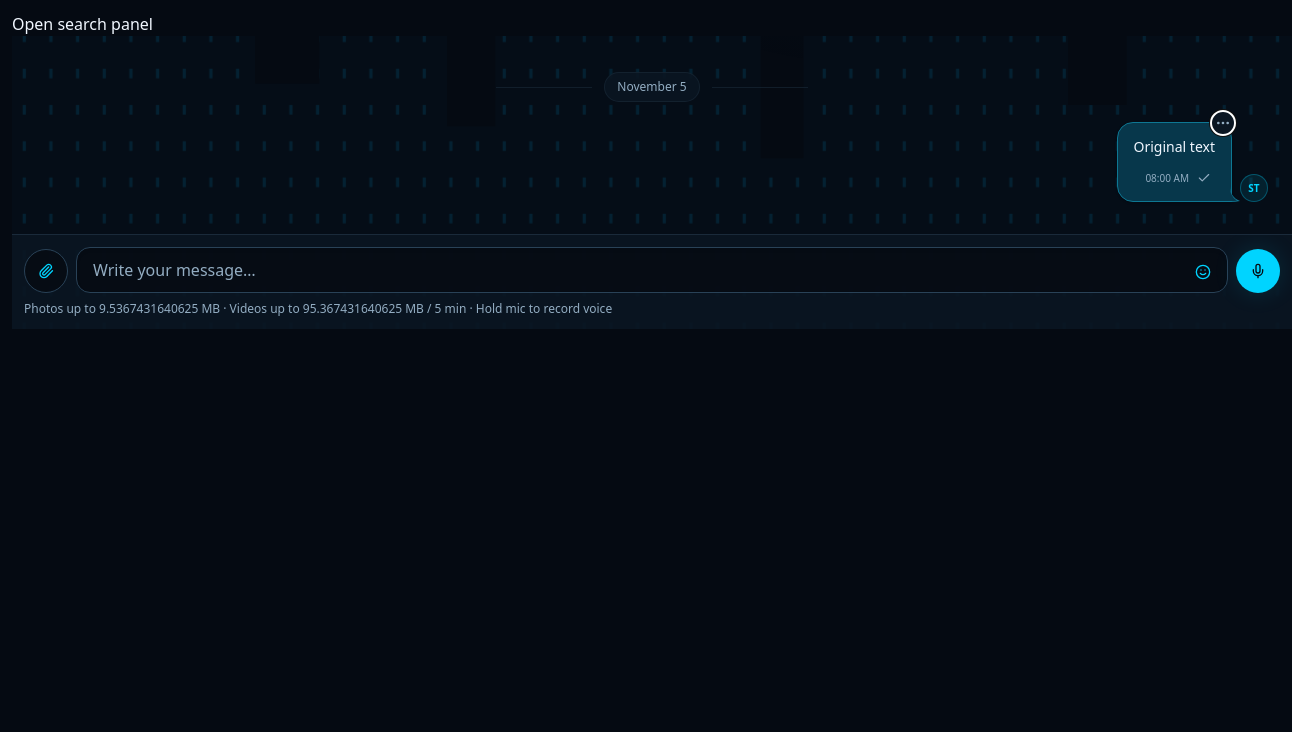
Test case: chat attachments › keeps composer focus after choosing Reply from the message menu
Click the button named "Message actions 91" at (1223, 123), box [1210,110,1236,136]
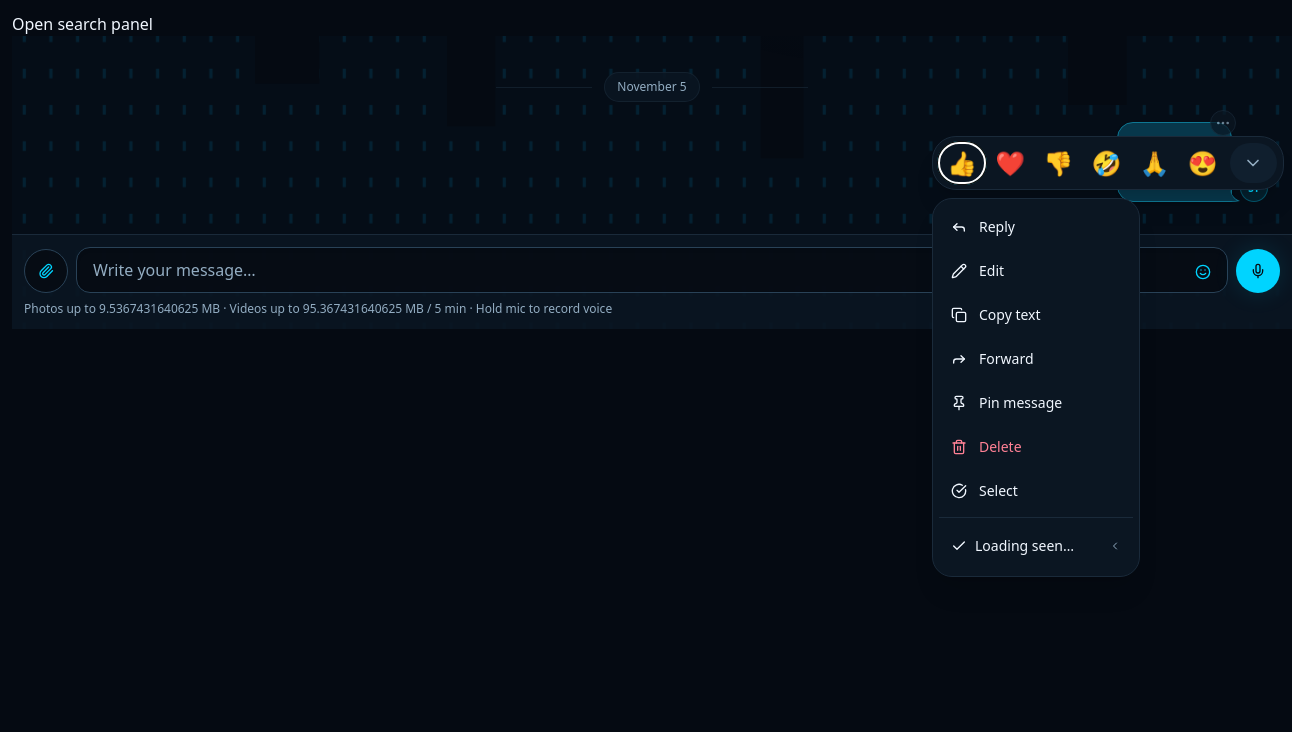
Click the menu item "Reply" at (1036, 227), box [939,205,1133,249]
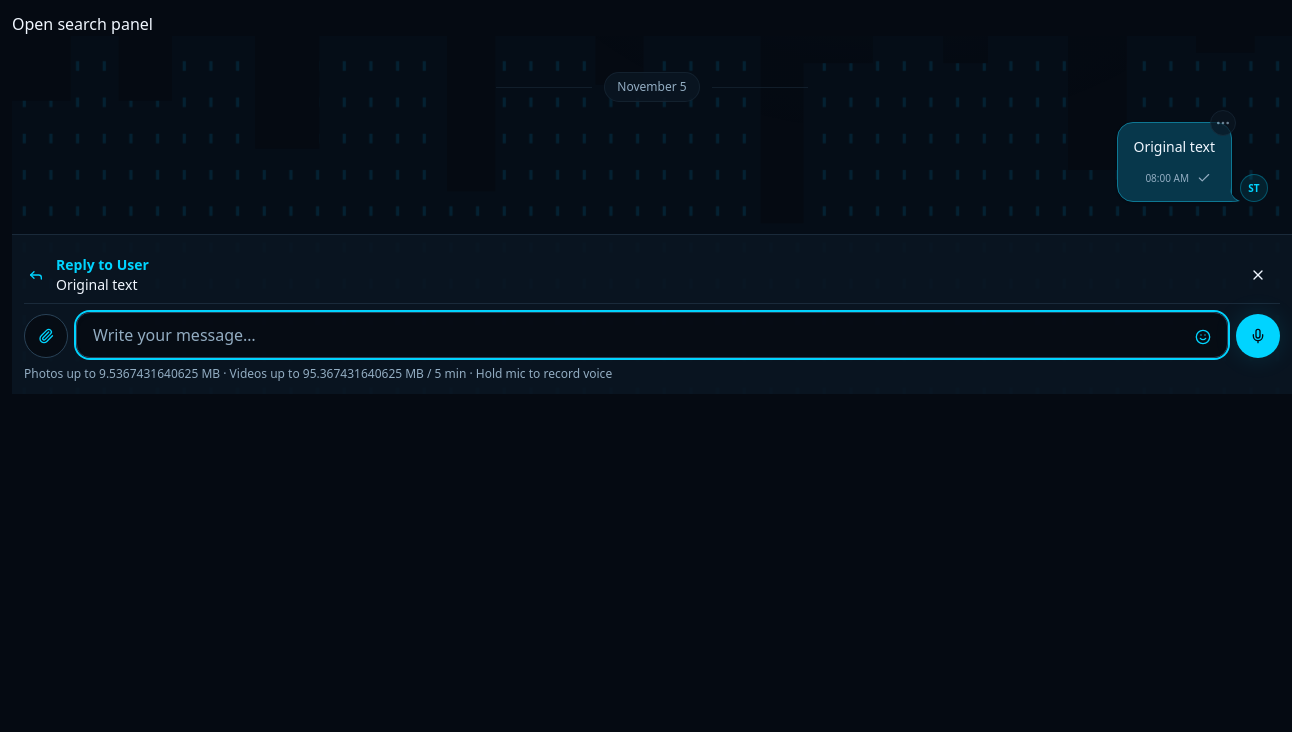
Now the menu is gone
